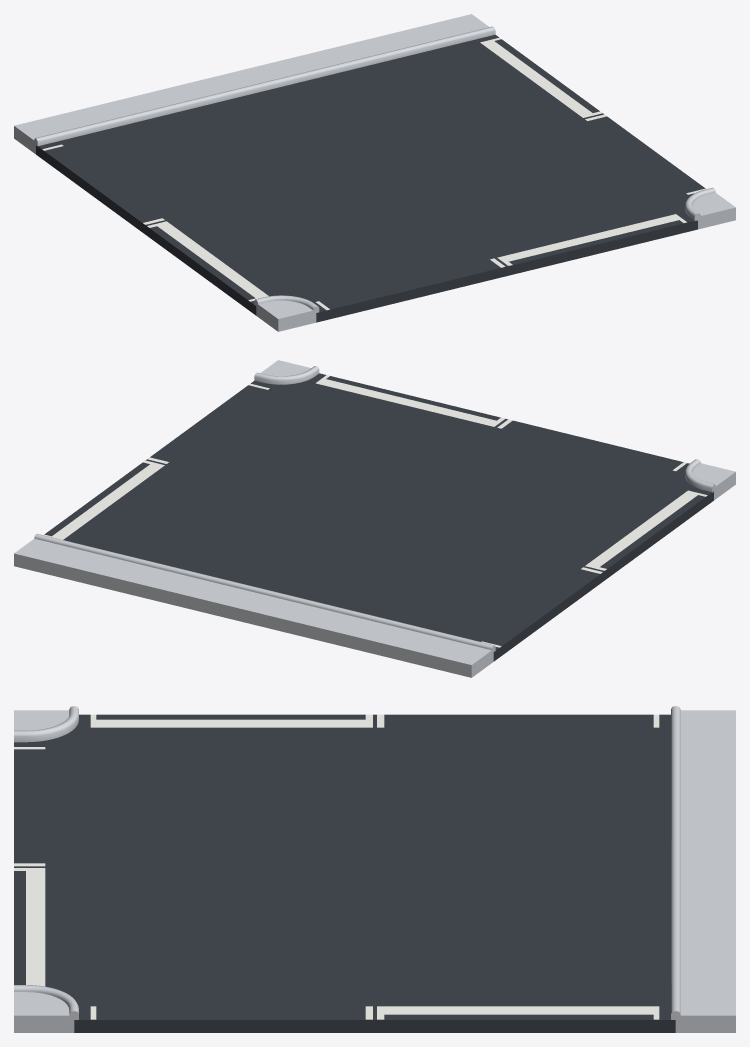
The model's file is avenida_cruzamento_t.glb.
The picture shows the model from 3 angles, top to bottom: view 1: azimuth 30°, elevation 25°; view 2: azimuth 150°, elevation 25°; view 3: azimuth 270°, elevation 25°; orthographic projection. The views are drawn at different scales.
Parts seen in each view (by area): view 1: avenida_cruzamento_t; view 2: avenida_cruzamento_t; view 3: avenida_cruzamento_t.
Boxes of the visible parts, box(x1,y1,x2,y2) form: avenida_cruzamento_t: box(14, 14, 735, 331); avenida_cruzamento_t: box(14, 360, 735, 677); avenida_cruzamento_t: box(14, 706, 735, 1032).
Size of the model in its own units: 15 by 0.5 by 15.
Materials: 1 (1 with a texture image).
